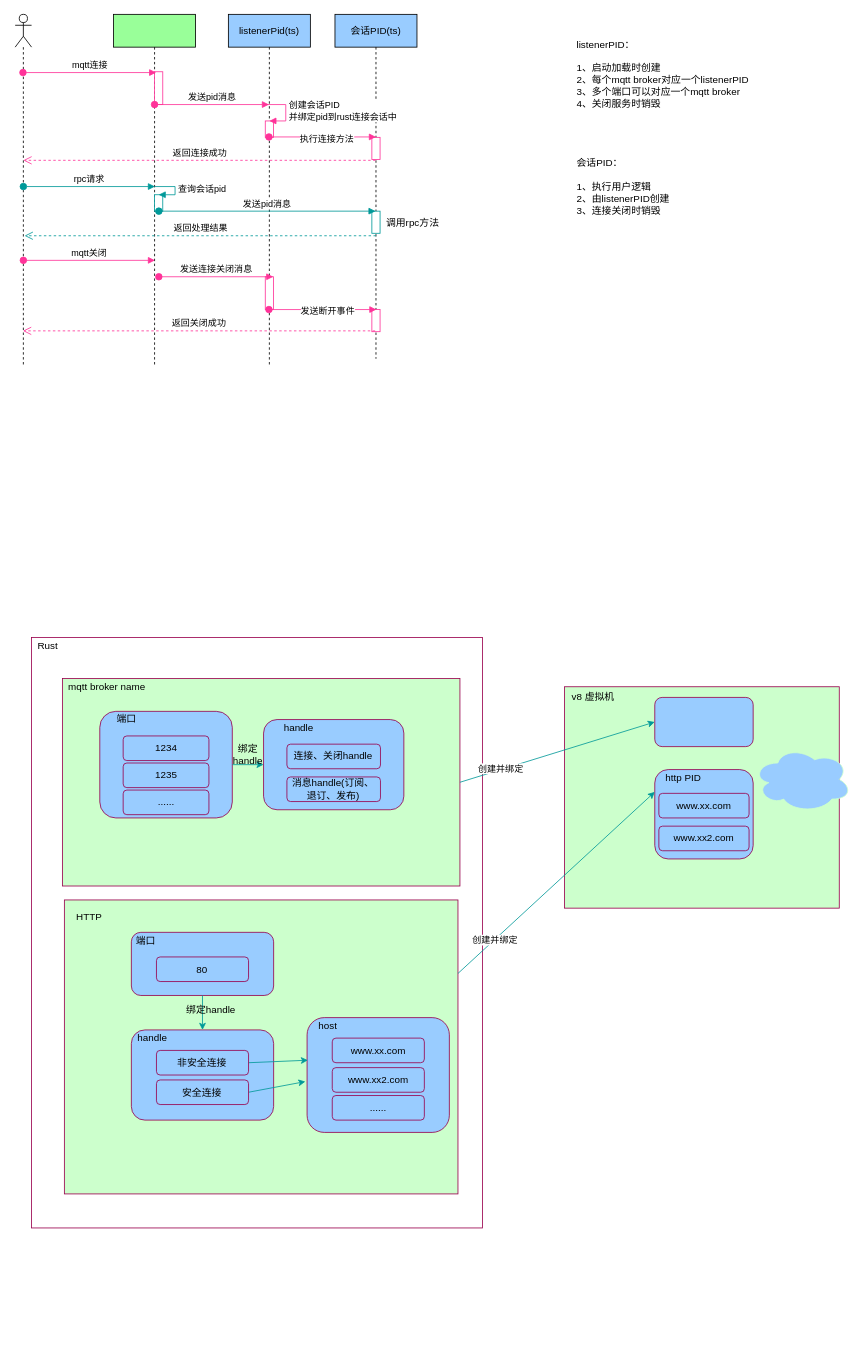
This 866x1368 diagram has some shape labels left out. The shapes that lost their labels are listed below. From the top down, each one's centre as x and y in pixels, then its label:
At (x=154, y=190): "Handle(Rust)".
At (x=703, y=722): "listener PID".
At (x=802, y=779): "host和pid一一对应".
